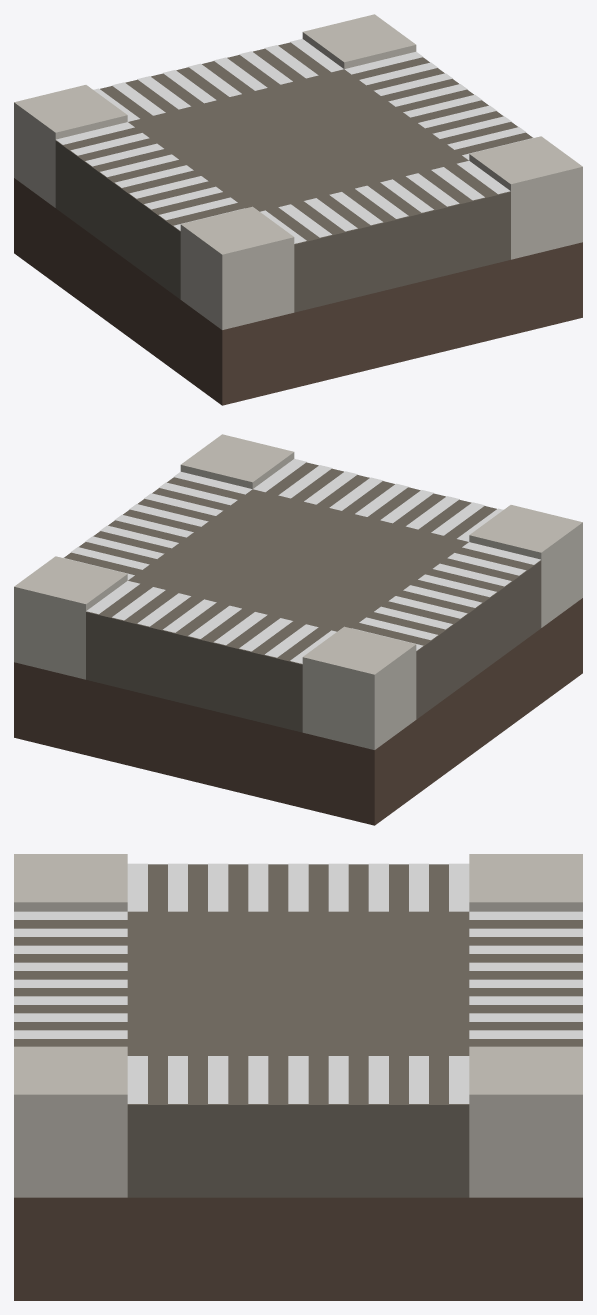
Rendered from road-tile-crossing_small.fbx.
3 views of the same model, one above another, from view 1: azimuth 30°, elevation 25°; view 2: azimuth 150°, elevation 25°; view 3: azimuth 270°, elevation 25° (orthographic). The views are drawn at different scales.
Visible parts, largest first — view 1: road-tile-crossing_small; view 2: road-tile-crossing_small; view 3: road-tile-crossing_small.
Part boxes in pixels (x1,y1,x2,y2): road-tile-crossing_small: (14,14,582,405); road-tile-crossing_small: (14,434,582,825); road-tile-crossing_small: (14,854,582,1300).
Size of the model in its own units: 1000 by 400 by 1000.
